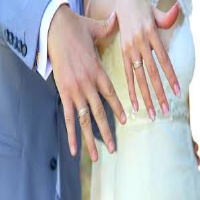ring: (74, 98, 104, 162), (133, 59, 157, 125)
